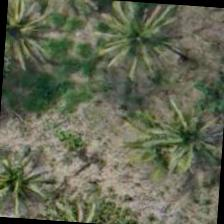Kelapa_Sawit: (134, 92, 223, 189), (87, 0, 183, 80), (2, 0, 64, 77)
